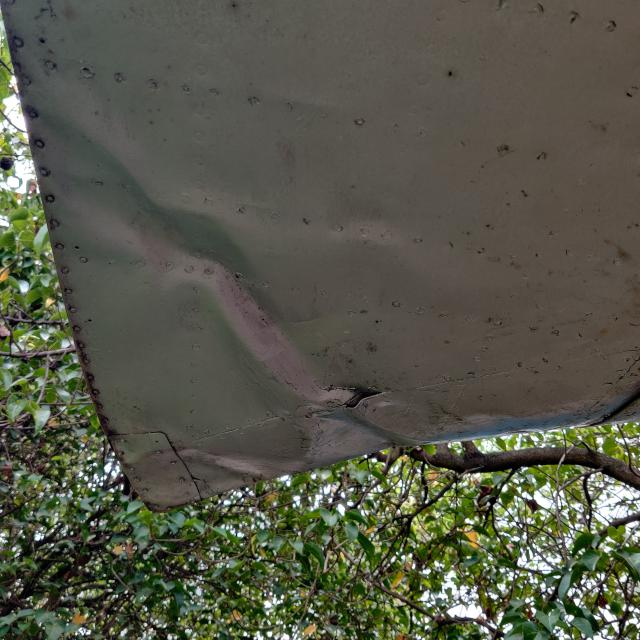crack: (318, 376, 358, 400)
dent: (20, 67, 316, 417)
